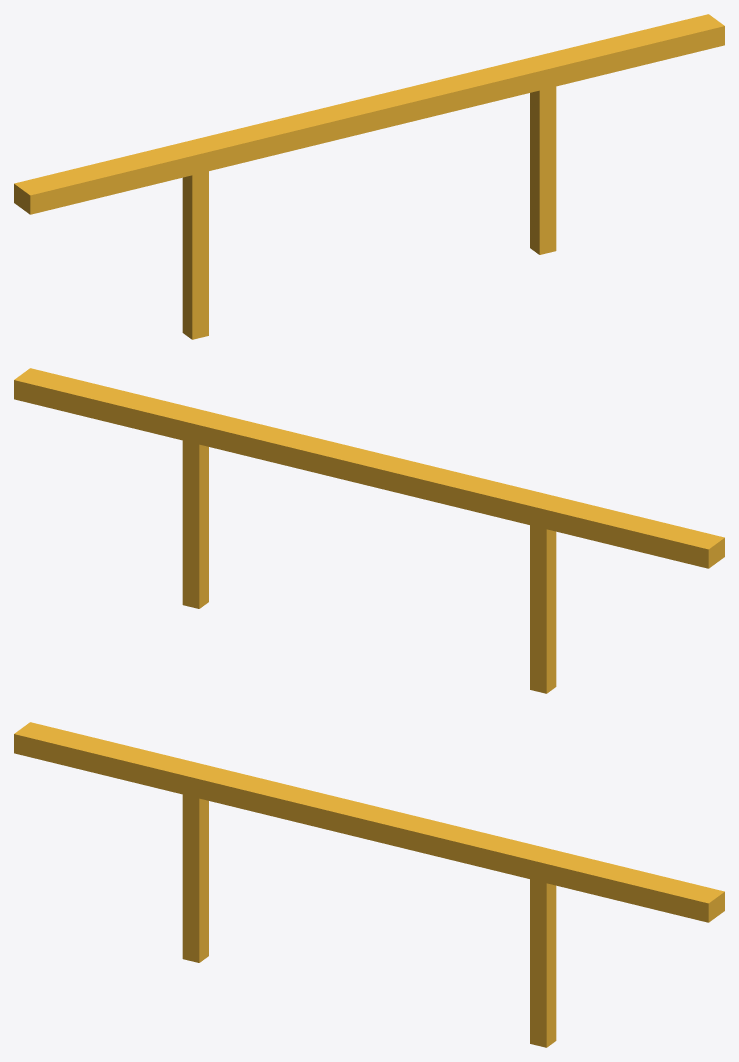
Rendered from Fence.fbx.
The picture shows the model from 3 angles, top to bottom: view 1: azimuth 30°, elevation 25°; view 2: azimuth 150°, elevation 25°; view 3: azimuth 330°, elevation 25°; orthographic projection.
Parts seen in each view (by area): view 1: Fence; view 2: Fence; view 3: Fence.
Part boxes in pixels (left/top/right/bottom): Fence: left=14, top=14, right=724, bottom=339; Fence: left=14, top=368, right=724, bottom=693; Fence: left=14, top=722, right=724, bottom=1047.
Size of the model in its own units: 400 by 103 by 16.25.
